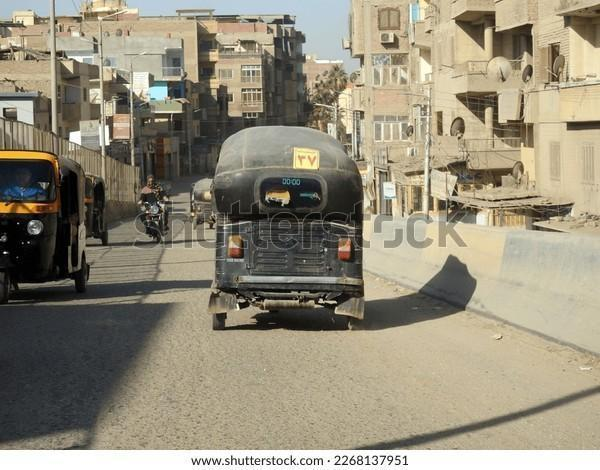keke: (204, 128, 371, 334), (0, 149, 89, 307)
